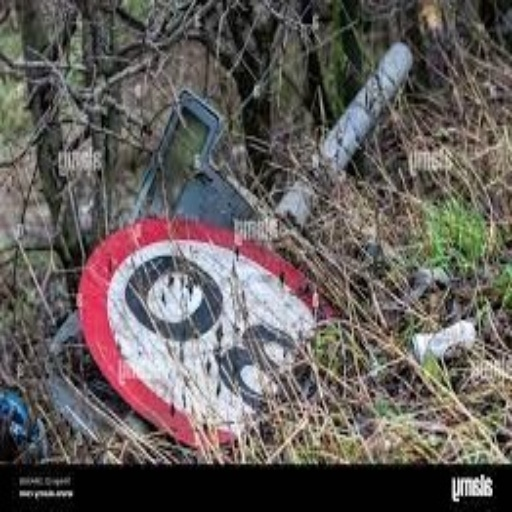Speed limit: (63, 186, 346, 453)
